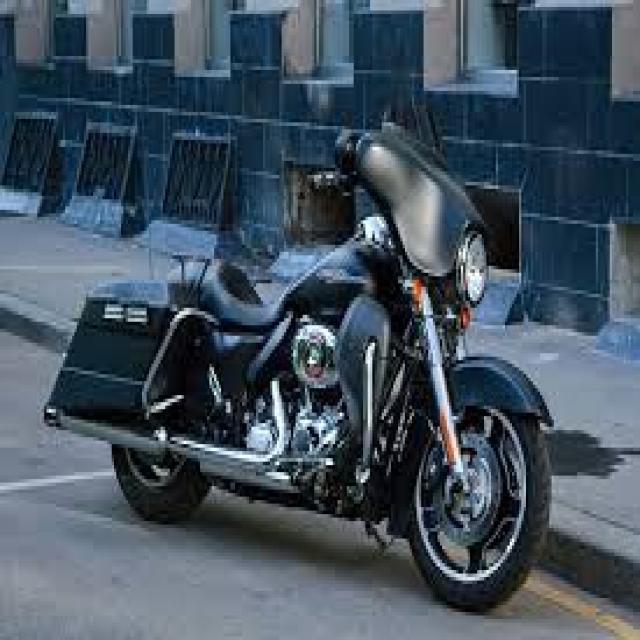Bike: (63, 115, 548, 606)
